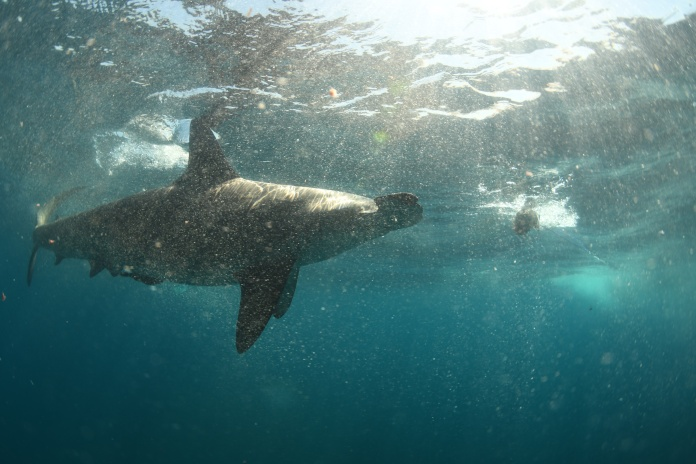Hammer: (14, 89, 459, 358)
